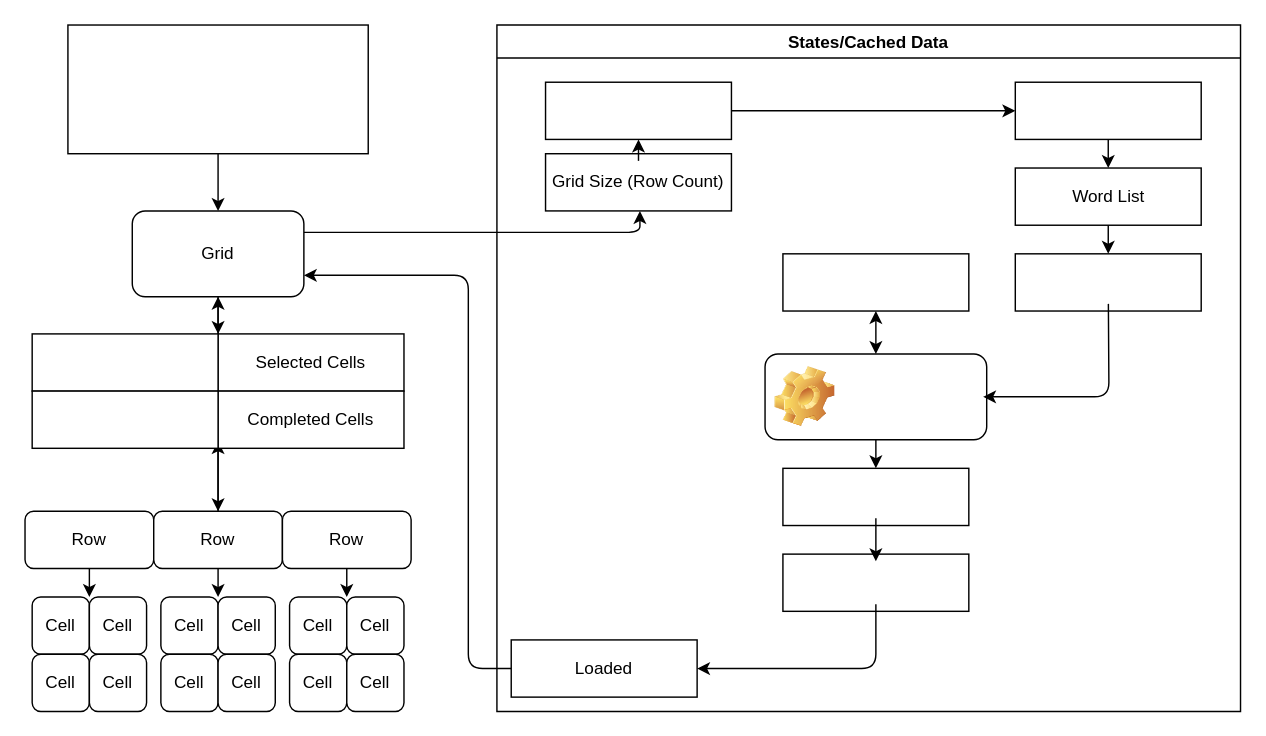
Image size: 1266x736. Some labels were removed from this diagram. The centre of each missing label's shape, as x and y in pixels:
"App" belongs at (217,89).
"Cell Count" belongs at (637,110).
"Directions" belongs at (875,281).
"Generate Grid" belongs at (875,396).
"Letters/Completed Grid" belongs at (875,496).
"Word Lists/Categories" belongs at (1107,110).
"Word Positions" belongs at (875,582).
"Words Found" belongs at (124,419).
"Words Remaining" belongs at (124,361).
"Words to Add" belongs at (1107,281).
